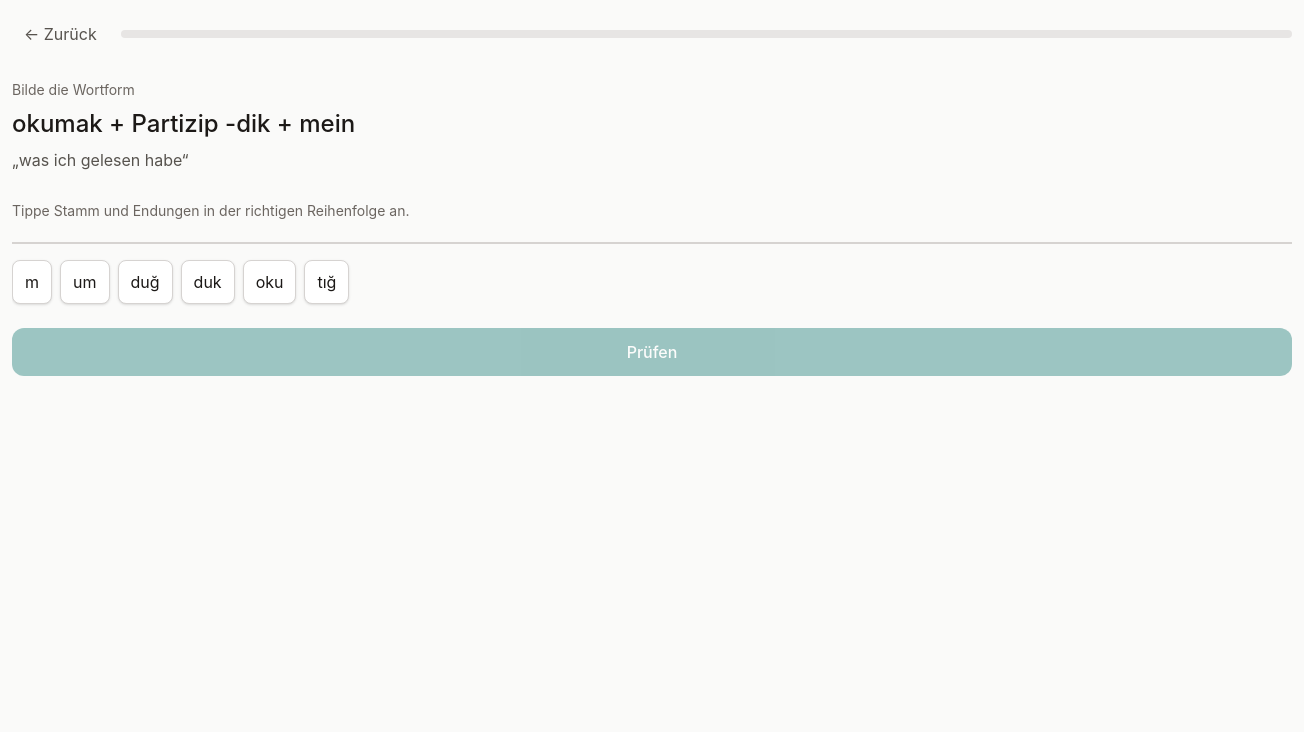
it: LessonRunner › Suffix-Builder mit Partizip: Verb, Partizip und Endung bauen
The width and height of the screenshot is (1304, 732).
Expected: the text "okumak + Partizip -dik + mein" is shown, [12, 109, 355, 138]
What coordinates should you click on to do the following:
click the button "oku"
I would click on:
 (270, 282)
Its box is [243, 260, 296, 304].
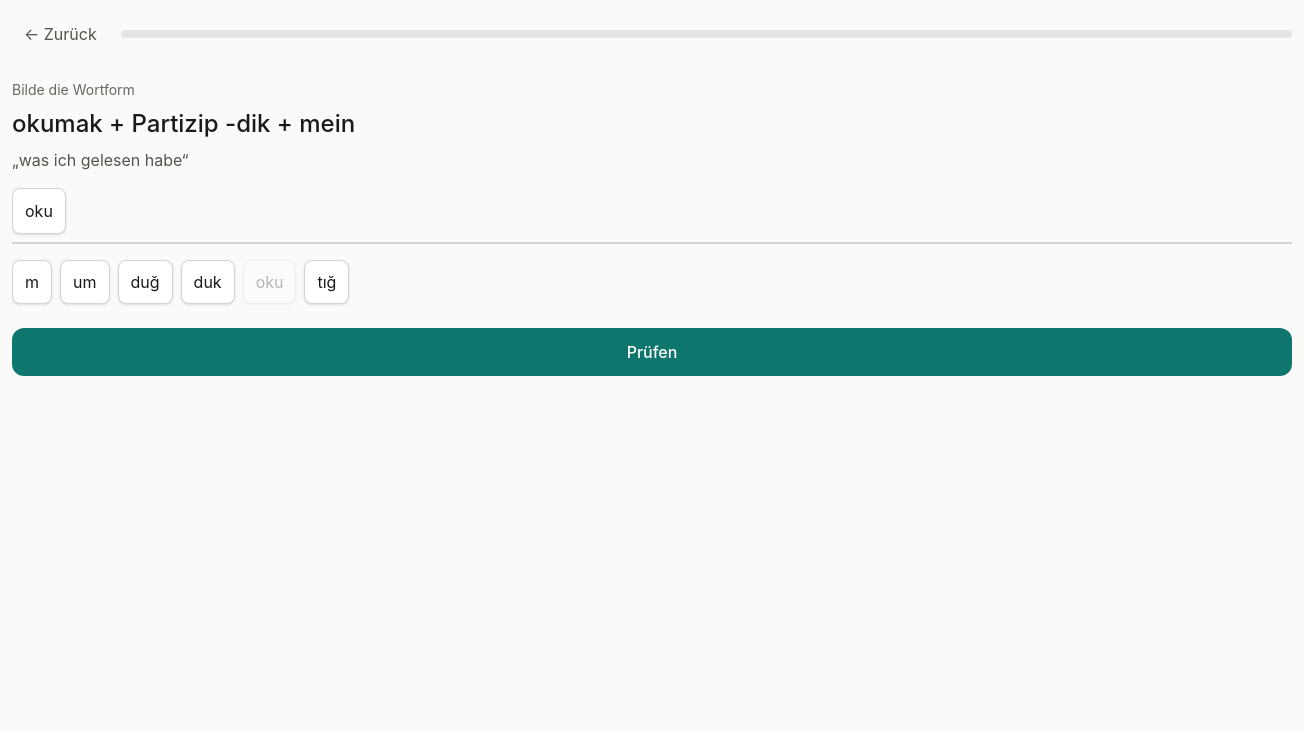
What coordinates should you click on to do the following:
click the button "duğ"
I would click on:
 (145, 282)
Its box is [118, 260, 173, 304].
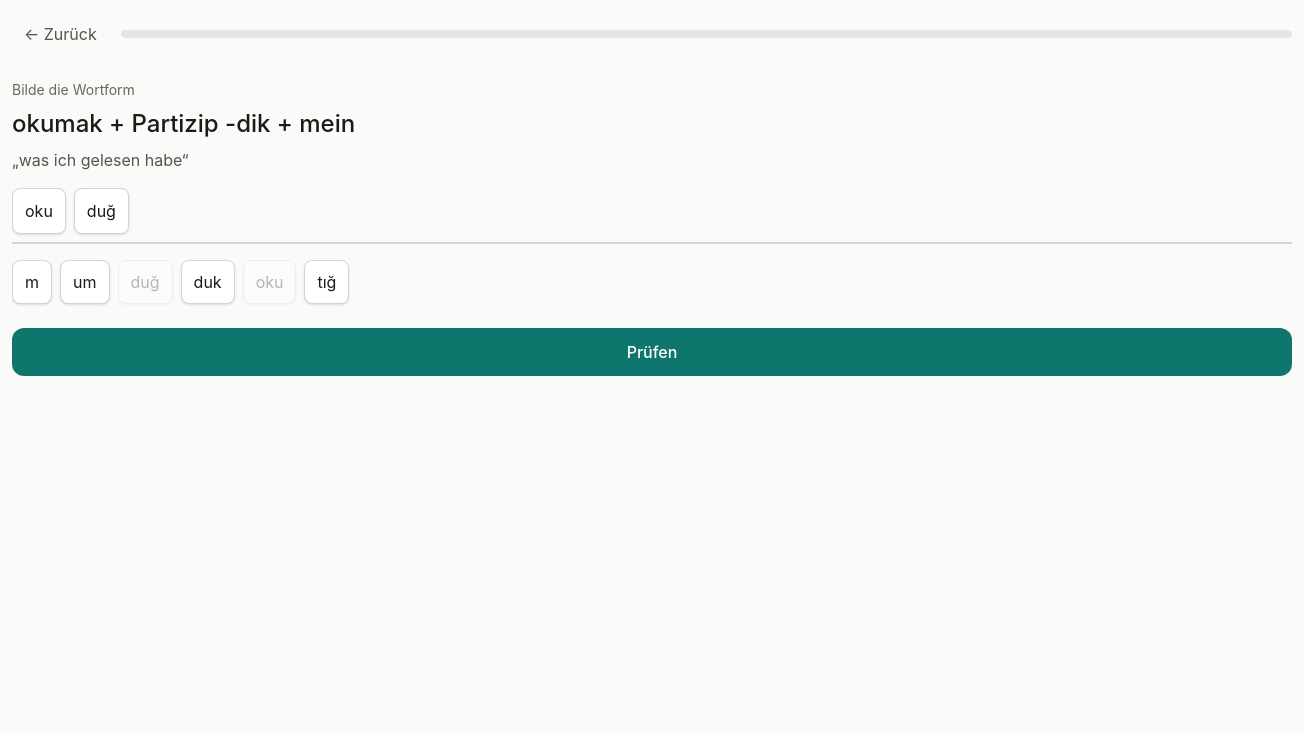
What coordinates should you click on to do the following:
click the button "um"
I would click on:
 (85, 282)
Its box is [60, 260, 110, 304].
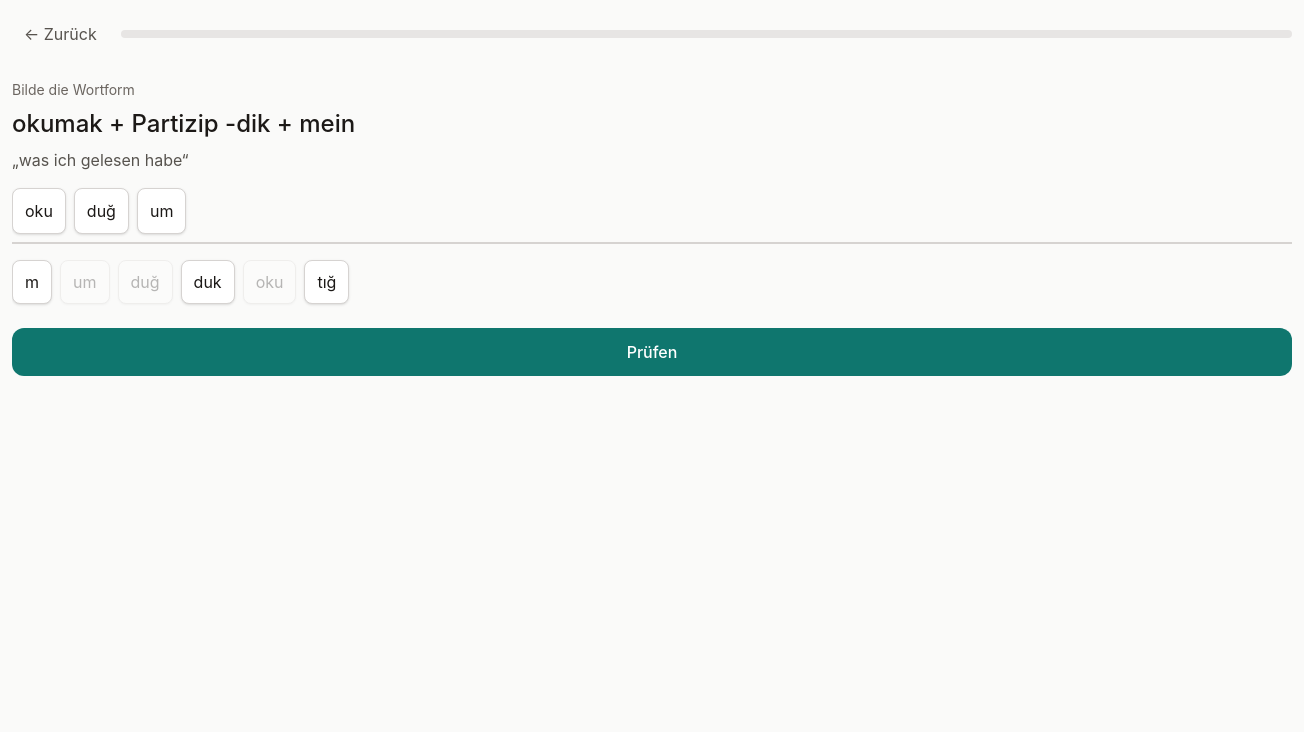
What coordinates should you click on to do the following:
click the button "Prüfen"
I would click on:
 (652, 352)
Its box is [12, 328, 1292, 376].
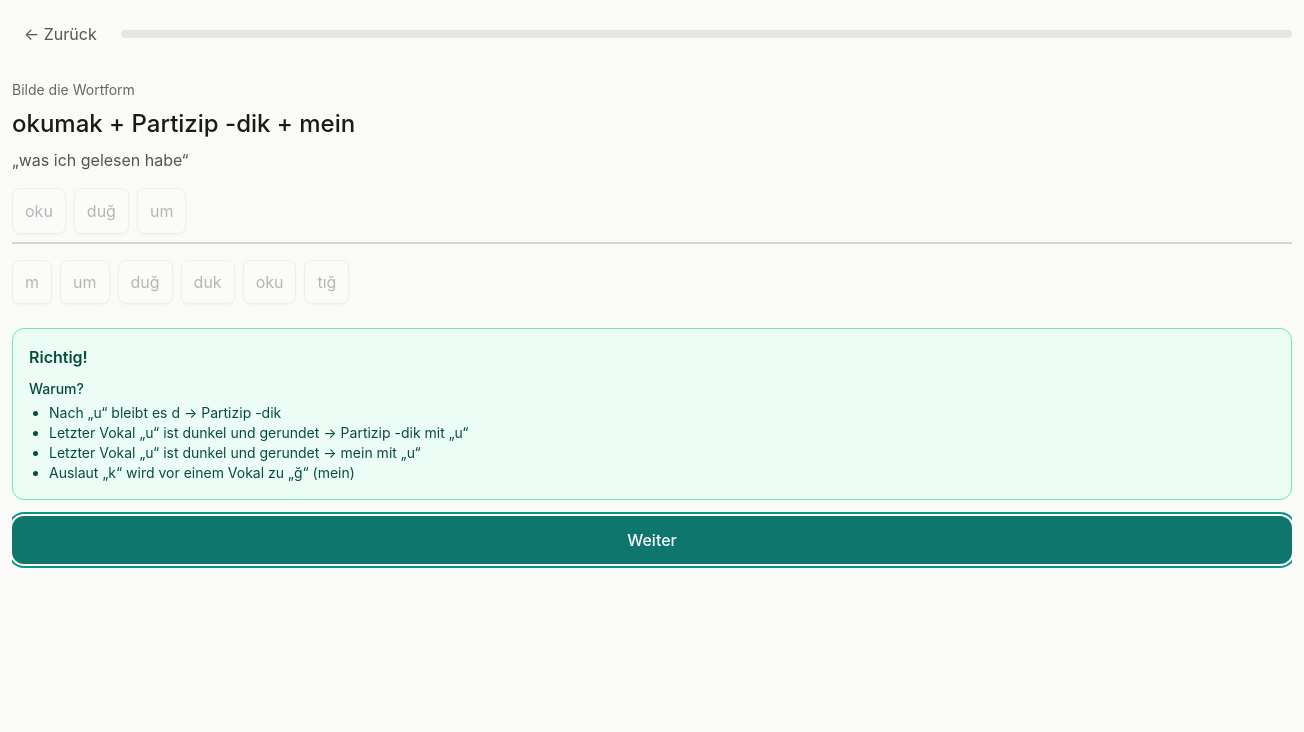
Result: the message shows "Richtig!" at [29, 347, 88, 367]
